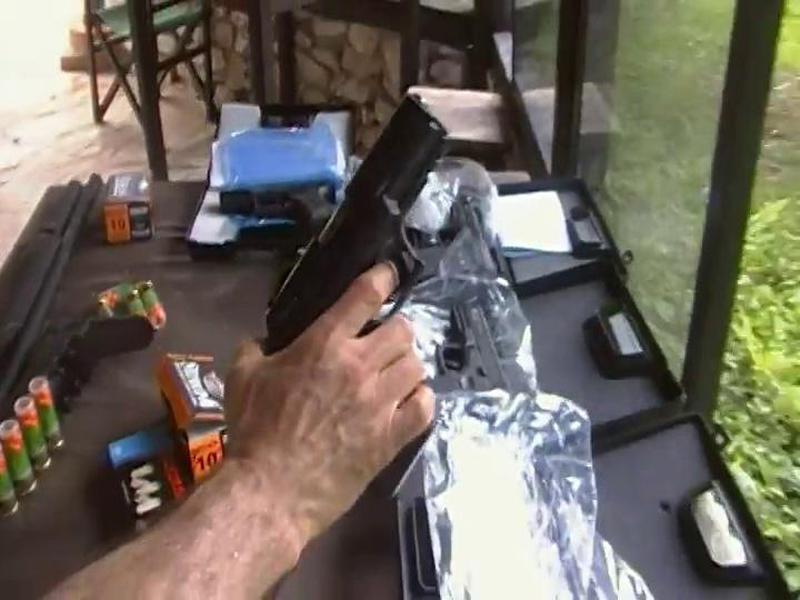Pistola: (240, 60, 463, 404)
